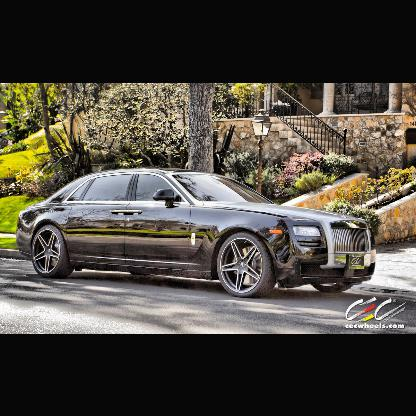Rolls-Royce Ghost Sedan 2012: (18, 168, 377, 299)
